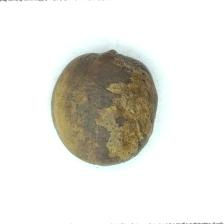NG: (97, 63, 157, 161)
